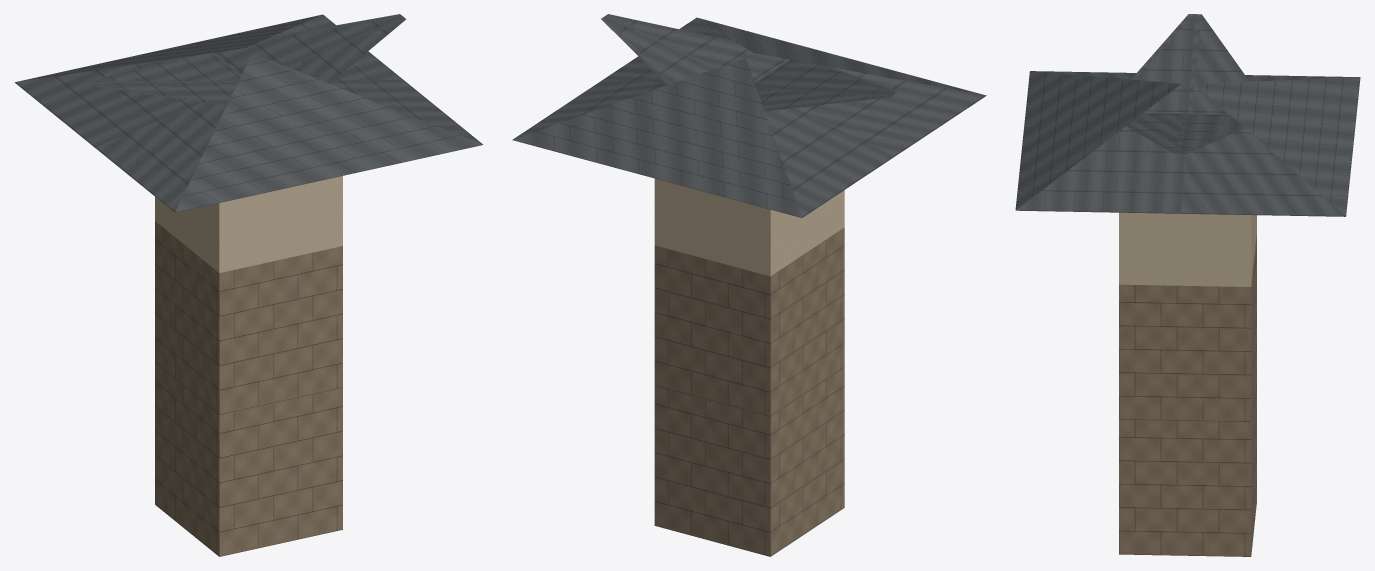
Rendered from bld_c13_36_411.gltf.
3 renders of one model, left to right at view 1: azimuth 30°, elevation 25°; view 2: azimuth 150°, elevation 25°; view 3: azimuth 270°, elevation 25°, orthographic. The views are drawn at different scales.
Visible parts, largest first — view 1: bld_c13_36_411; view 2: bld_c13_36_411; view 3: bld_c13_36_411.
Part boxes in pixels (x1=…): bld_c13_36_411: x1=15, y1=14, x2=483, y2=556; bld_c13_36_411: x1=512, y1=14, x2=986, y2=556; bld_c13_36_411: x1=1015, y1=14, x2=1360, y2=556.
Size of the model in its own units: 5.21 by 7.4 by 5.21.
3 materials, 3 textured.
